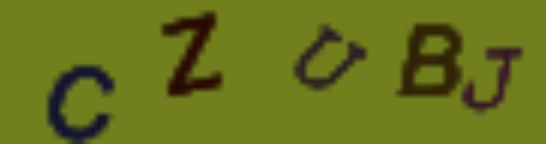B: (393, 19, 466, 101)
C: (46, 62, 117, 144)
J: (459, 43, 529, 115)
U: (291, 23, 370, 94)
Z: (156, 6, 228, 98)
